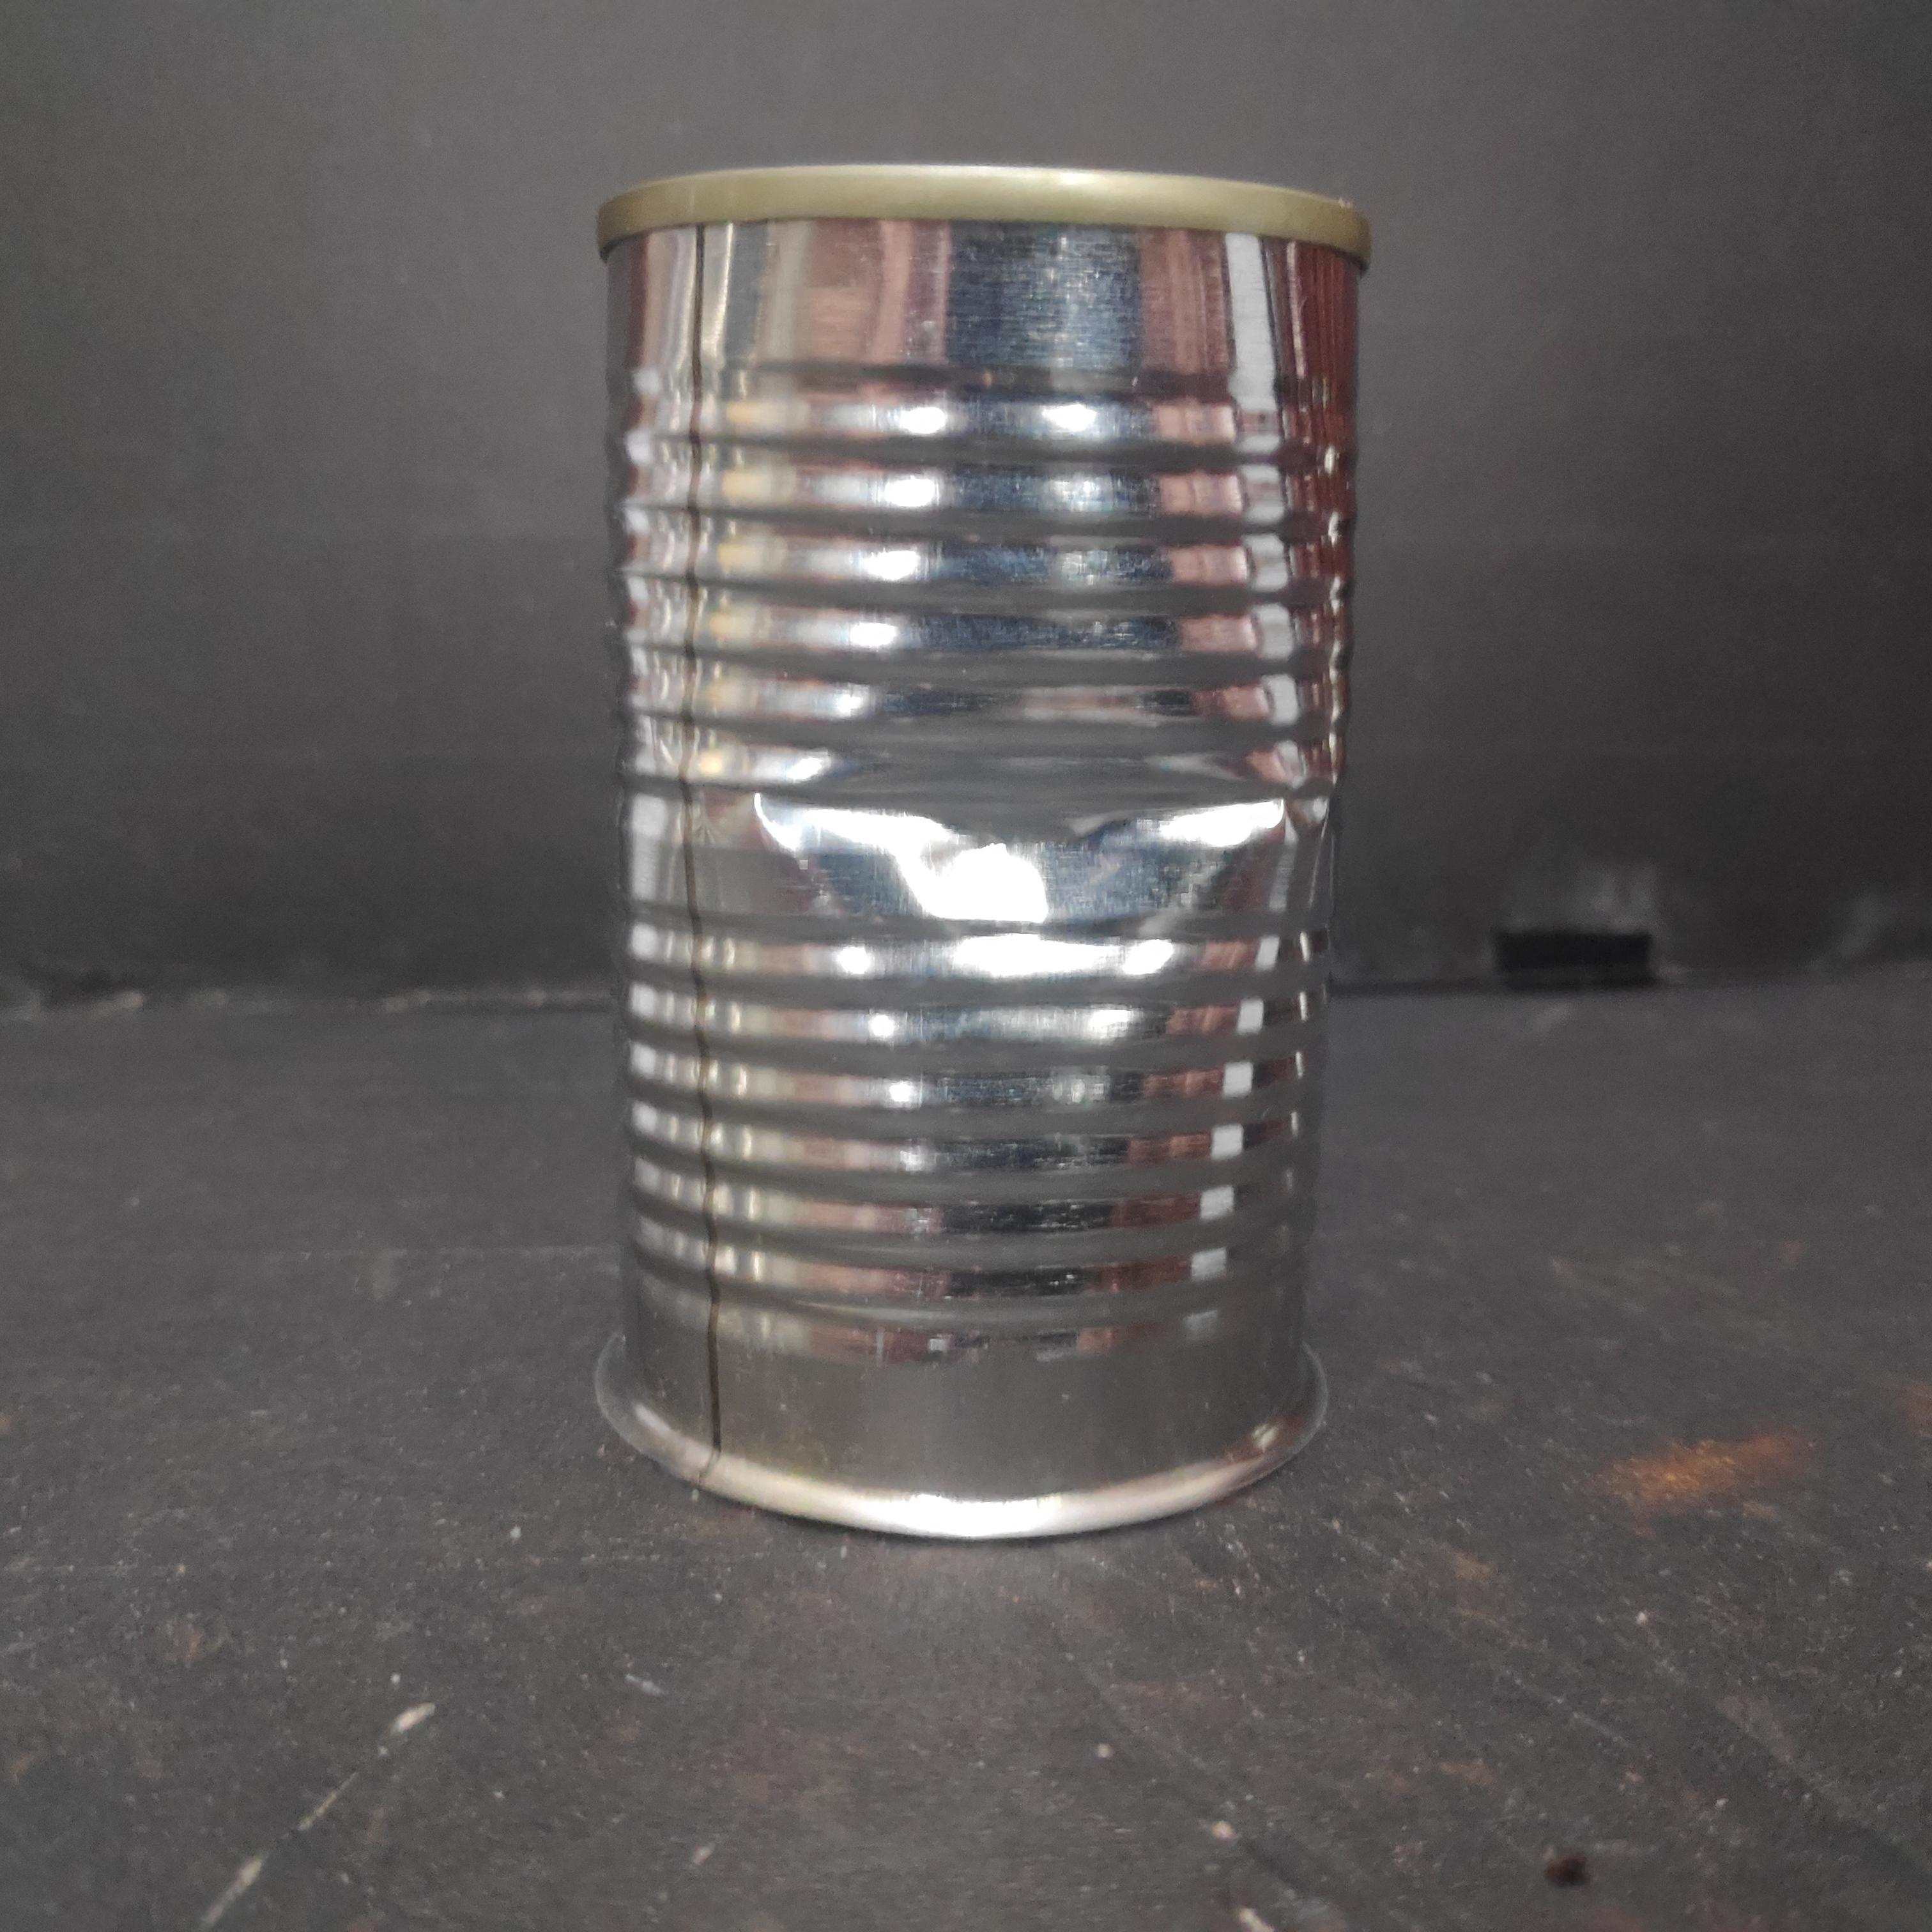Minor Defect: (586, 157, 1382, 1555)
